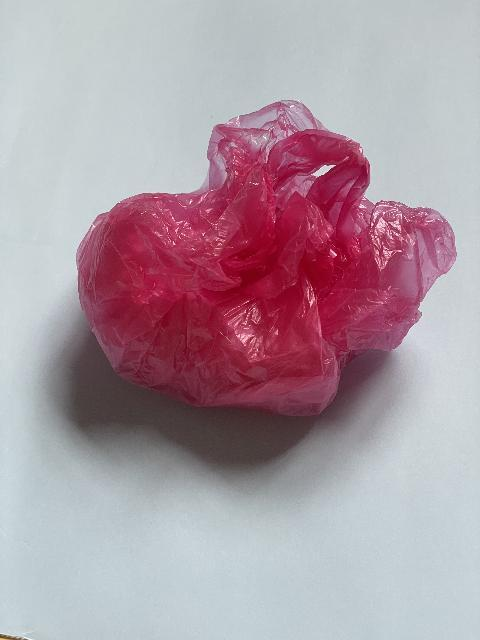plasticbag: (73, 95, 459, 421)
